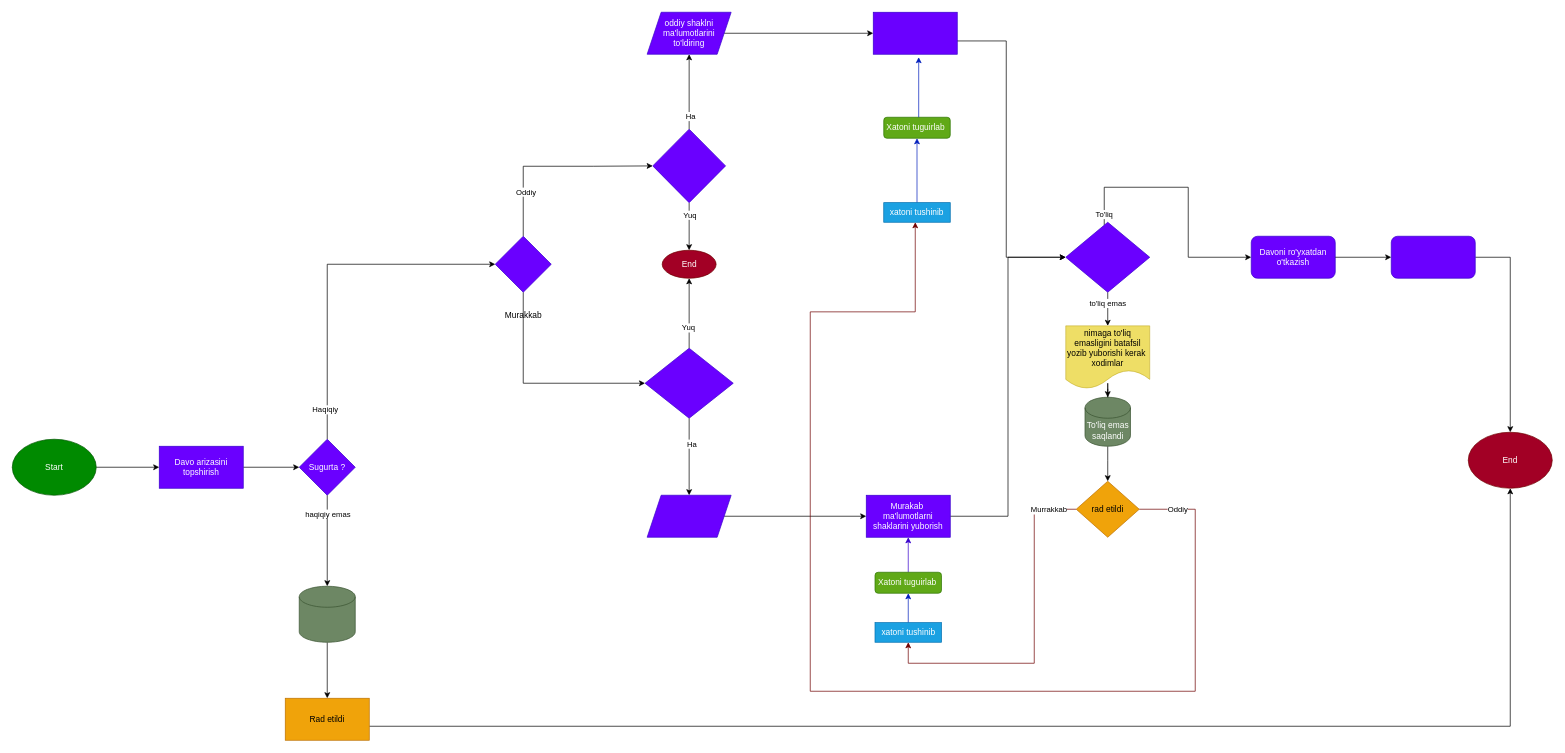
Some shapes in this 1565 by 753 pixel diagram are drawn without their labels. The centre of each missing label's shape, as x and y in pixels:
daraja: the point at 523,264
Davoni yuborish: the point at 1433,257
Murakkab shaklni ma'lumotlarini to'ldiring: the point at 688,516
Murrakkab shaklni to'ldirishni xoxlaysizmi: the point at 688,383
Oddiy ma'lumotlarni shaklarini yuborish: the point at 915,33
Oddiy shaklni to'ldirishni xoxlaysizmi: the point at 689,165
Sugurta haqiqiy emas data saqlandi: the point at 327,614
To'liqmi ?: the point at 1107,257
